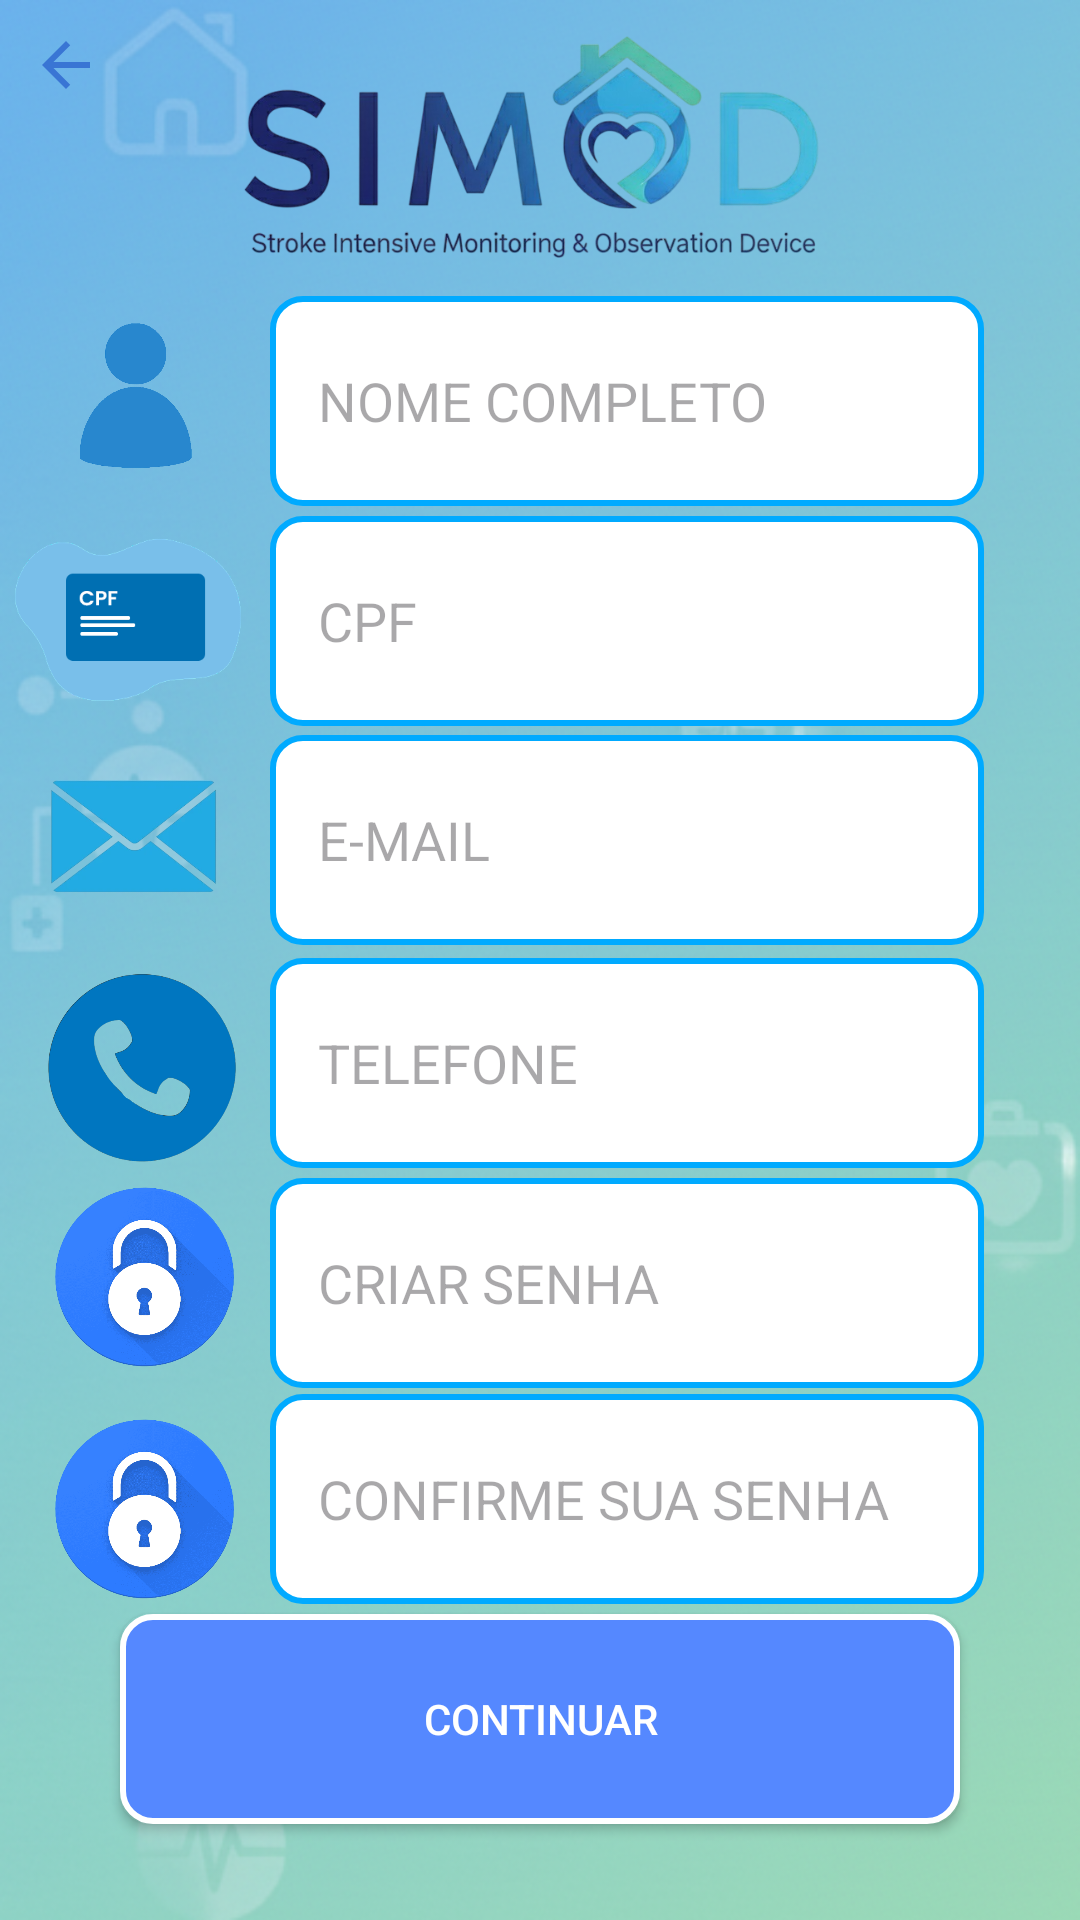

Where to tap for icons on this 1080 x 1920 app screen, as [x,y]:
senhaicone: [144,1276], [144,1508]
usericone: [136,395]
Voltar: [84,65]
